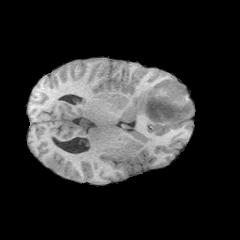glioma: (127, 89, 185, 126)
